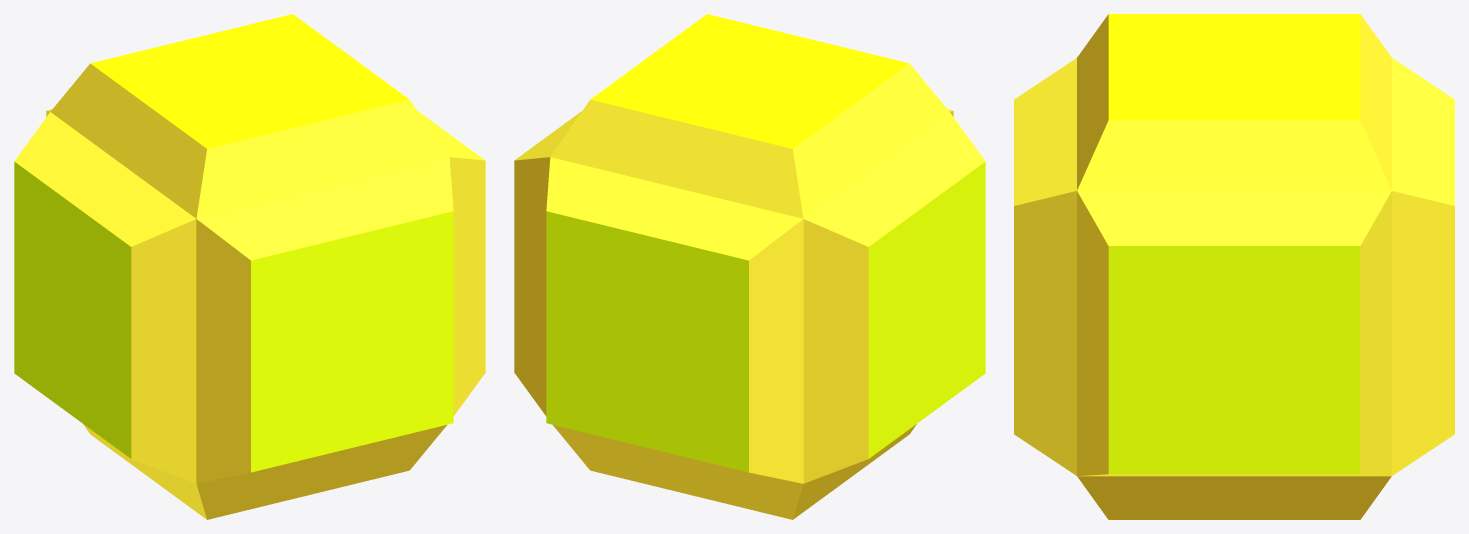
The model's file is Pellet.fbx.
3 renders of one model, left to right at view 1: azimuth 30°, elevation 25°; view 2: azimuth 150°, elevation 25°; view 3: azimuth 270°, elevation 25°, orthographic. The views are drawn at different scales.
Visible parts, largest first — view 1: Pellet; view 2: Pellet; view 3: Pellet.
Part boxes in pixels (box(x1,y1,x2,y2)): Pellet: box(14, 14, 485, 519); Pellet: box(514, 14, 985, 519); Pellet: box(1014, 14, 1454, 519).
Size of the model in its own units: 26.25 by 26.25 by 26.25.
